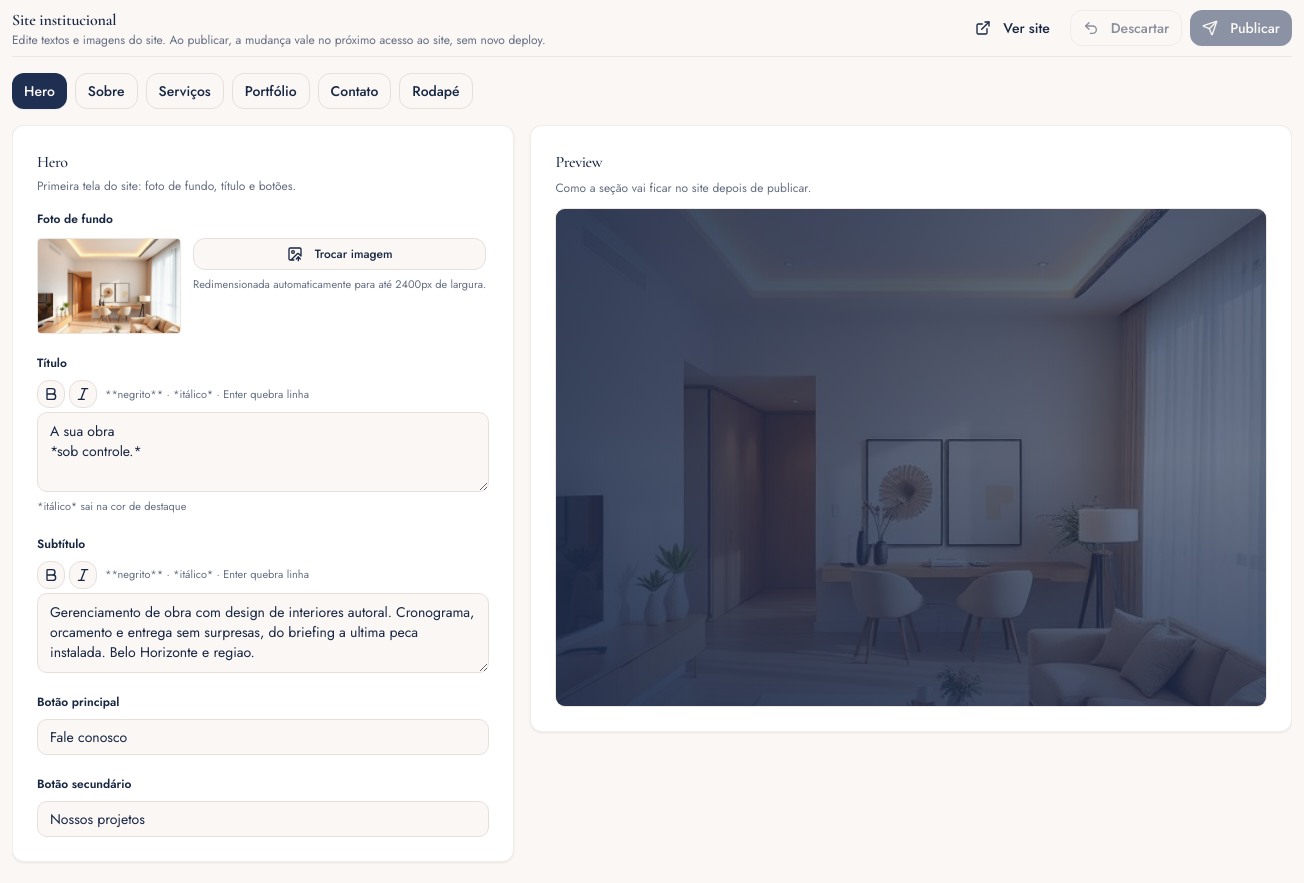
aba Site › Restaurar padrão numa seção salva apaga as linhas dela
Later steps or results of the test are not shown.
Click the tab "Rodapé": point(436, 91) [399,73,473,109]
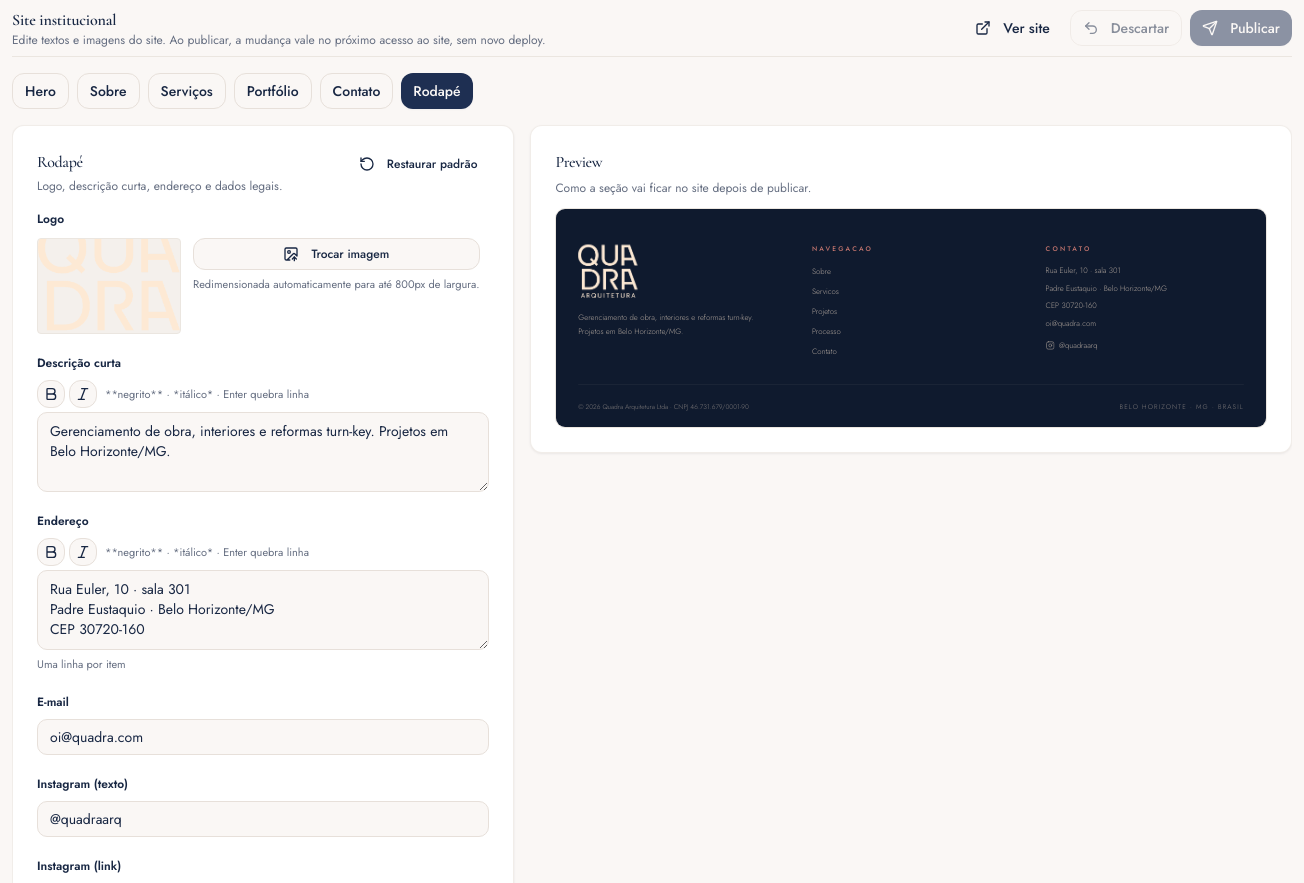
Check: the field labelled "E-mail" holds "oi@quadra.com", box [37,718,489,754]
